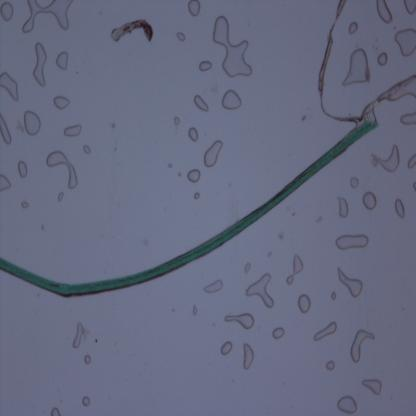Air bubble: (213, 16, 255, 80), (21, 0, 76, 34), (45, 150, 80, 190), (341, 48, 371, 85), (245, 273, 274, 309), (349, 328, 376, 365), (336, 266, 364, 298), (31, 41, 47, 90), (378, 144, 401, 174), (393, 28, 416, 58), (336, 232, 370, 252), (0, 72, 19, 104), (312, 320, 338, 343), (223, 312, 257, 329), (286, 254, 304, 286), (203, 139, 223, 167), (221, 88, 243, 111), (24, 110, 42, 138), (375, 0, 394, 25), (336, 394, 358, 414), (335, 193, 351, 220), (361, 378, 383, 396), (0, 0, 15, 25), (0, 114, 12, 145), (70, 322, 84, 348), (62, 121, 83, 138), (54, 50, 70, 72), (242, 342, 254, 370), (52, 95, 72, 111), (203, 278, 223, 294), (362, 190, 378, 210), (394, 199, 408, 220), (194, 94, 210, 112), (298, 293, 311, 314), (269, 324, 286, 340), (402, 0, 416, 19), (401, 110, 416, 127), (186, 167, 201, 184), (17, 160, 29, 181), (188, 0, 201, 18), (0, 173, 12, 192), (220, 341, 235, 356), (198, 58, 212, 73), (187, 127, 200, 143), (376, 52, 388, 68), (242, 261, 254, 276), (347, 21, 358, 37), (80, 394, 92, 408), (175, 30, 187, 43), (349, 176, 360, 190), (407, 153, 416, 169), (326, 359, 336, 372), (191, 304, 199, 320), (82, 144, 92, 156), (83, 352, 91, 366), (56, 190, 65, 202), (20, 200, 30, 210), (50, 406, 60, 415), (193, 191, 201, 202), (173, 115, 181, 126), (330, 291, 338, 301), (413, 180, 416, 190)
Cotton: (314, 0, 416, 122), (110, 19, 156, 43)
Microfibre: (0, 116, 379, 299)
